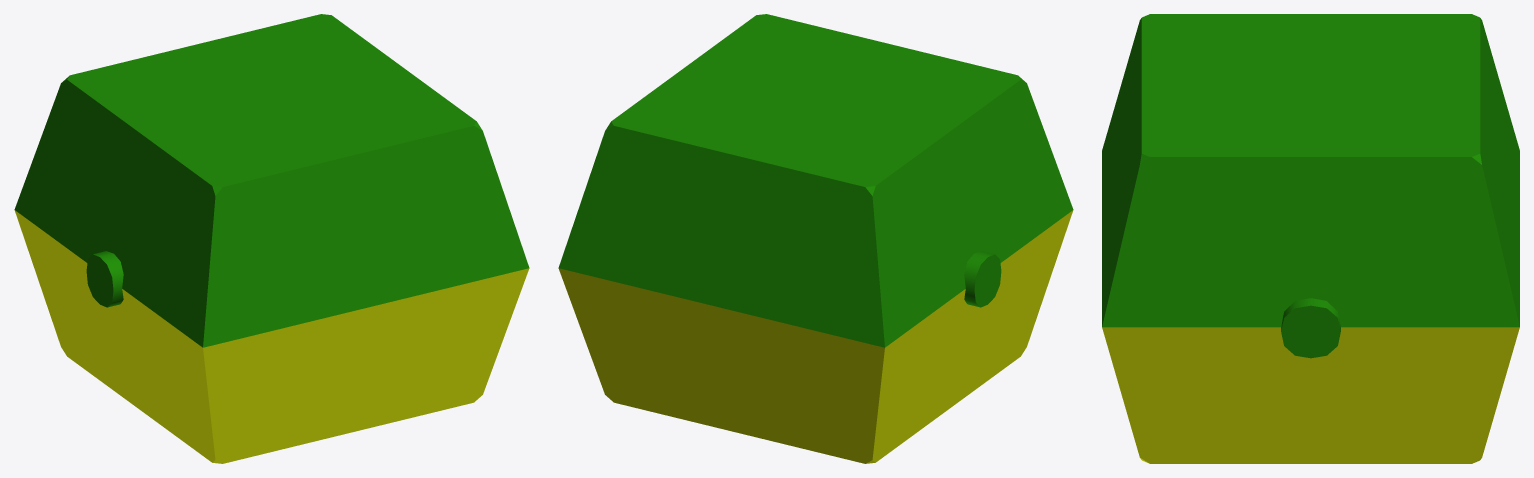
File: FoodBox.glb
The picture shows the model from 3 angles, left to right: view 1: azimuth 30°, elevation 25°; view 2: azimuth 150°, elevation 25°; view 3: azimuth 270°, elevation 25°; orthographic projection. The views are drawn at different scales.
Parts seen in each view (by area): view 1: Cube, Cube.001; view 2: Cube, Cube.001; view 3: Cube, Cube.001.
Part boxes in pixels (x1=…): Cube: x1=14, y1=14, x2=529, y2=347; Cube.001: x1=14, y1=210, x2=529, y2=463; Cube: x1=558, y1=14, x2=1073, y2=347; Cube.001: x1=558, y1=210, x2=1073, y2=463; Cube: x1=1102, y1=14, x2=1519, y2=358; Cube.001: x1=1102, y1=327, x2=1519, y2=463.
Bounding box in the file's own units: 2.6 × 2 × 2.47.
